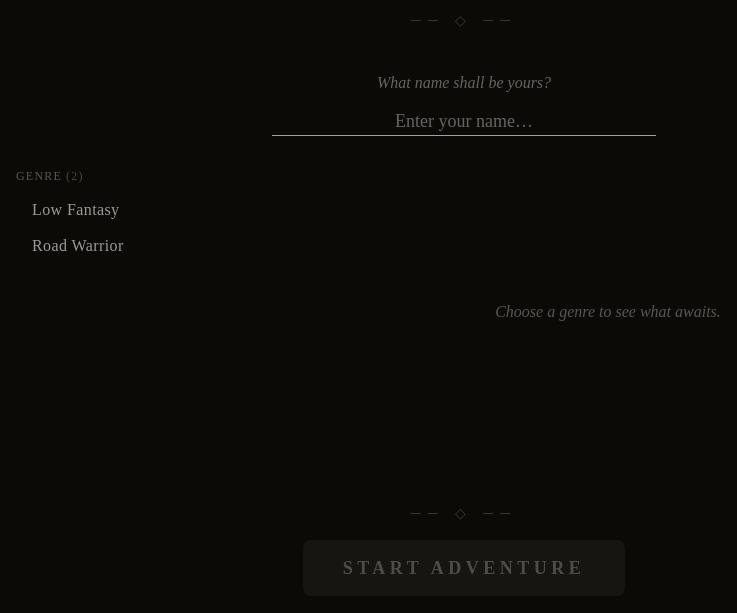
Scenario: ConnectScreen › shows the world radio group only after a genre is picked
This screenshot has width=737, height=613.
Check: the element "world" is not shown
Click the radio button labelled "Low Fantasy": (139, 210) x1=16 y1=192 x2=262 y2=228
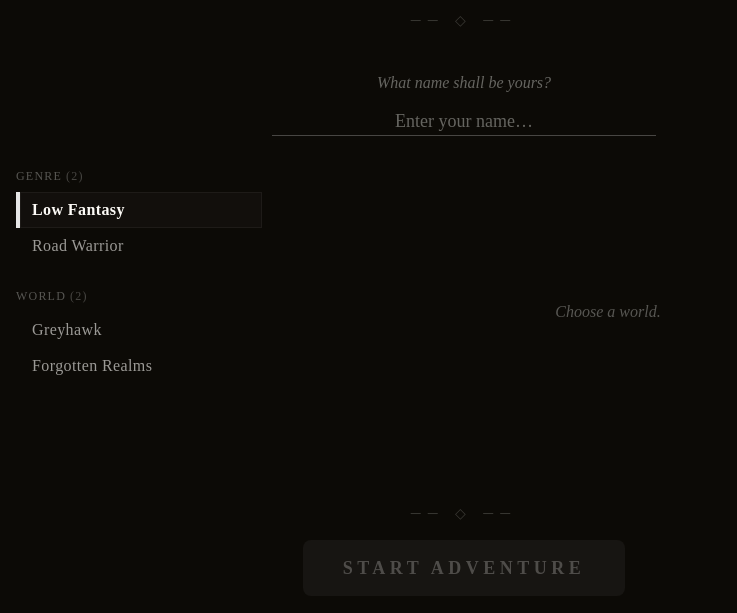
Check: the element named "world" is shown, box x1=16 y1=312 x2=272 y2=384
Check: the radio button labelled "Greyhawk" is shown, box x1=16 y1=312 x2=262 y2=348
Check: the radio button labelled "Forgotten Realms" is shown, box x1=16 y1=348 x2=262 y2=384
